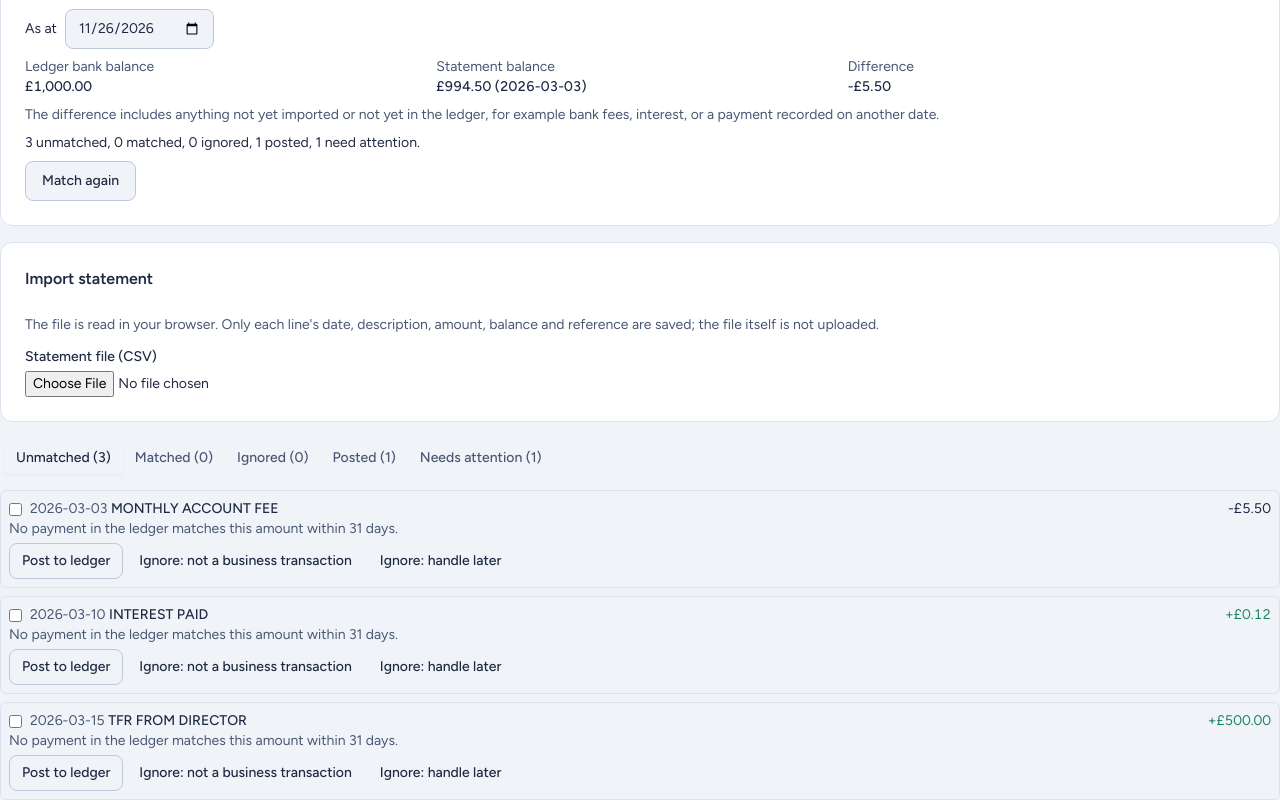
Scenario: Bank: post a line to the ledger › a transfer: no suggestion, so Post waits for a choice; typing filters the accounts
(page scrolled)
Expected: the text "TFR FROM DIRECTOR" is shown, [108, 712, 247, 729]
Click the button "Post to ledger" below "2026-03-15": click(66, 773) [9, 755, 123, 791]
(page scrolled)
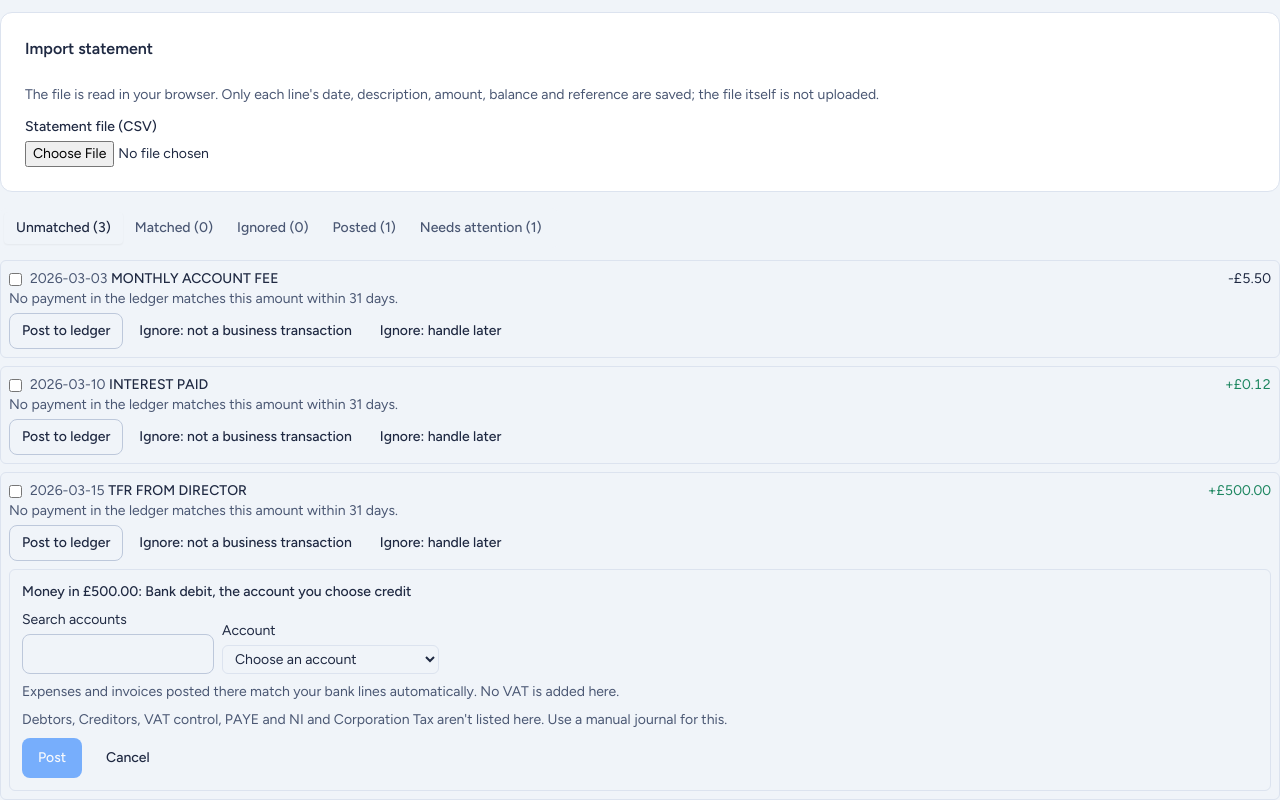
Result: the button "Post" is disabled at [22, 738, 82, 778]
Result: the text with test id "bank-post-effect" reads "Money in £500.00: Bank debit, the account you choose credit" at [22, 583, 412, 600]
In the field labelled "Search accounts": (118, 654) [22, 634, 214, 674], type "loan"
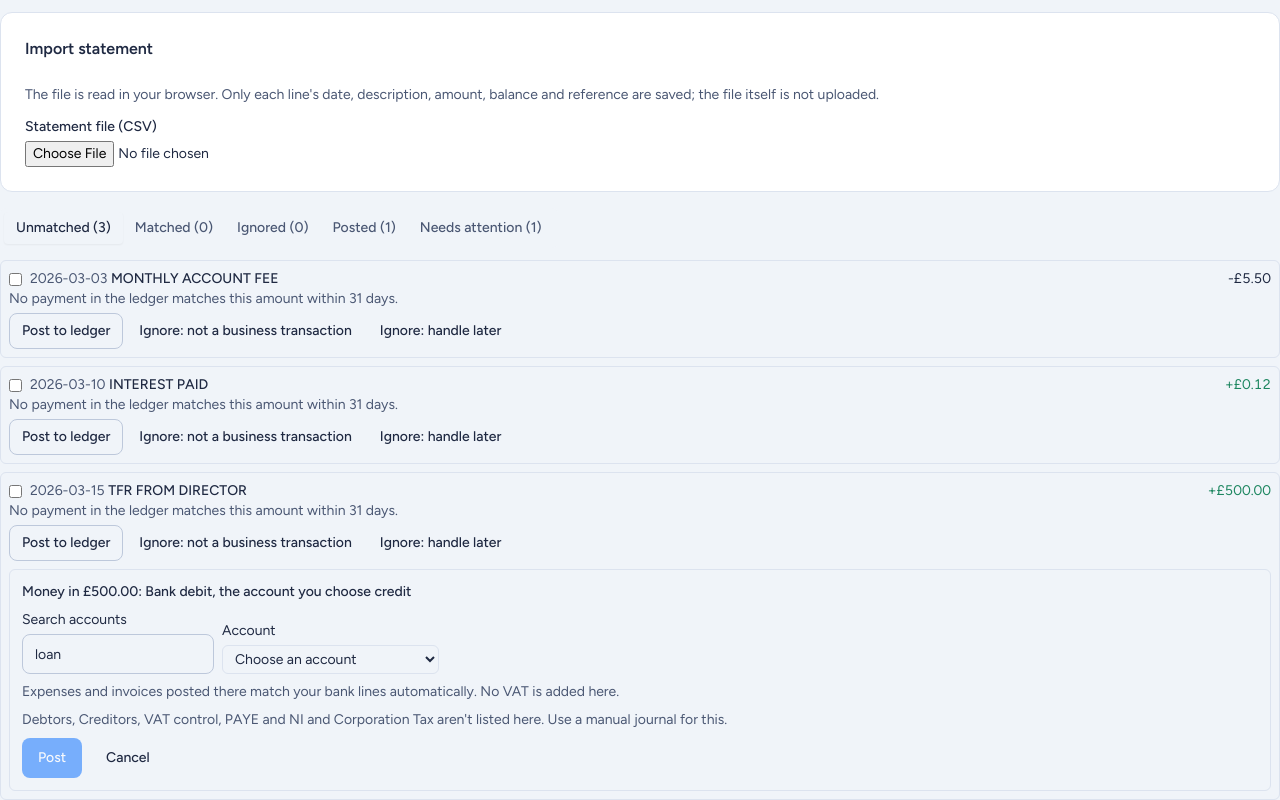
Select "2310 Directors' loan account" in the dropdown labelled "Account": (330, 660) [222, 645, 439, 674]
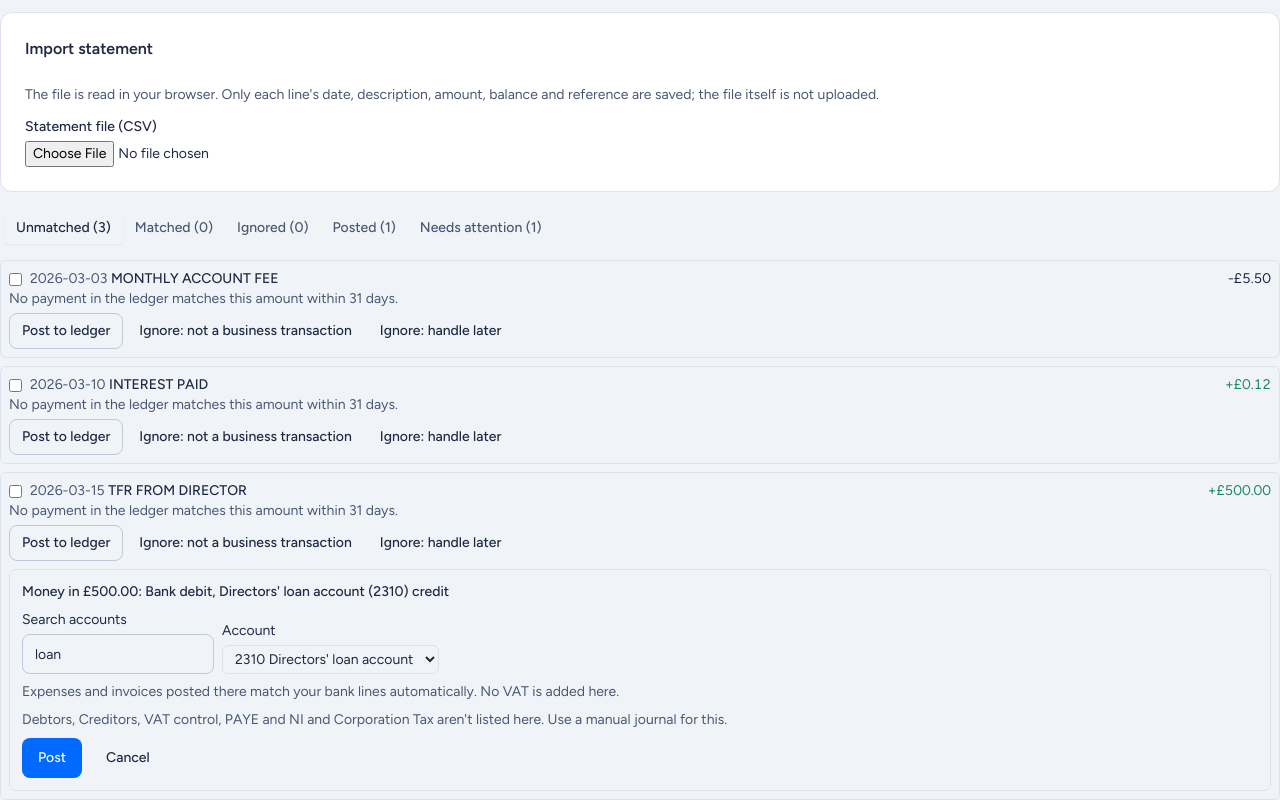
Result: the text with test id "bank-post-effect" reads "Money in £500.00: Bank debit, Directors' loan account (2310) credit" at [22, 583, 449, 600]
Result: the button "Post" is enabled at [22, 738, 82, 778]
